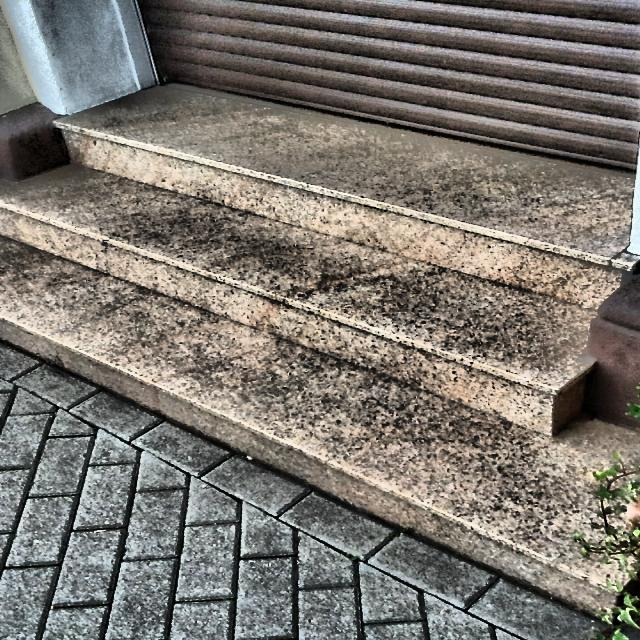escada: (1, 79, 640, 616)
